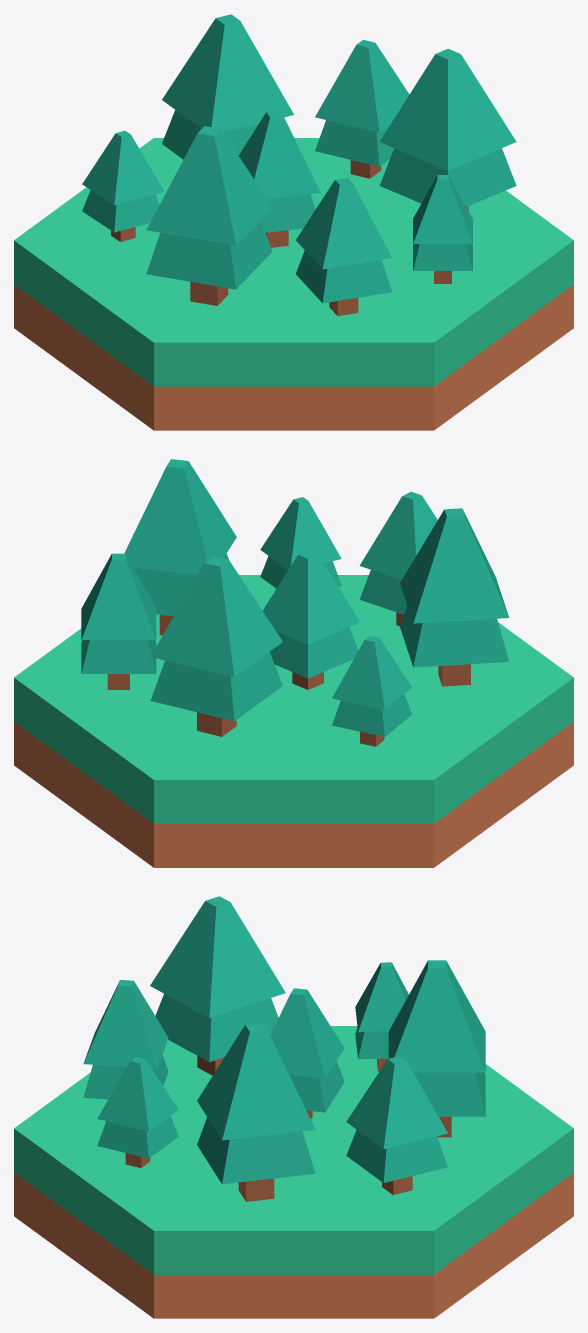
Rendered from grass_forest.dae.
3 views of the same model, one above another, from view 1: azimuth 30°, elevation 25°; view 2: azimuth 150°, elevation 25°; view 3: azimuth 270°, elevation 25° (orthographic).
Parts seen in each view (by area): view 1: grass_forest, tree (×8); view 2: grass_forest, tree (×8); view 3: grass_forest, tree (×8).
Boxes of the visible parts, box(x1,y1,x2,y2) form: grass_forest: box(14, 138, 573, 430); tree (×8): box(82, 14, 516, 315); grass_forest: box(14, 575, 573, 867); tree (×8): box(81, 459, 509, 746); grass_forest: box(14, 1026, 573, 1318); tree (×8): box(83, 896, 485, 1201).
Bounding box in the file's own units: 1 × 0.58 × 1.15.
